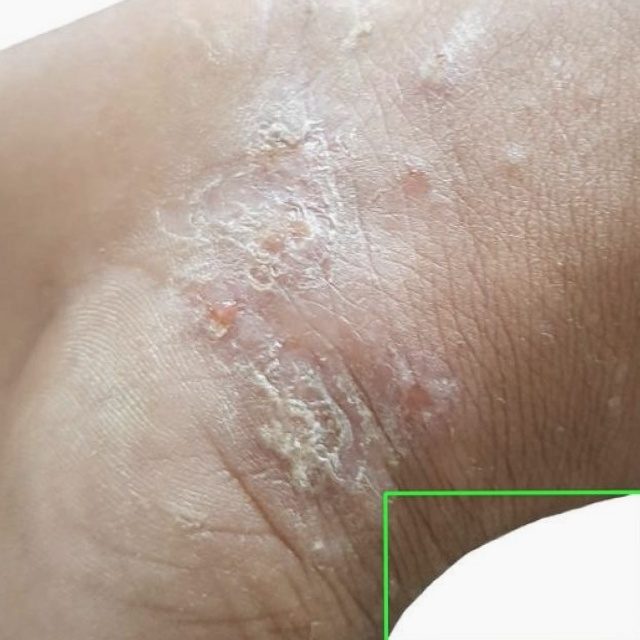Scabies: (385, 492, 639, 639)
